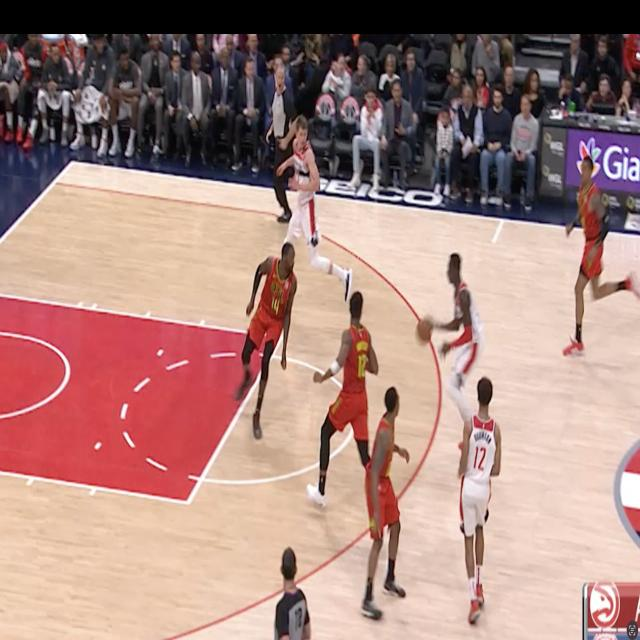no foul: (416, 239, 514, 626), (326, 286, 421, 628)
